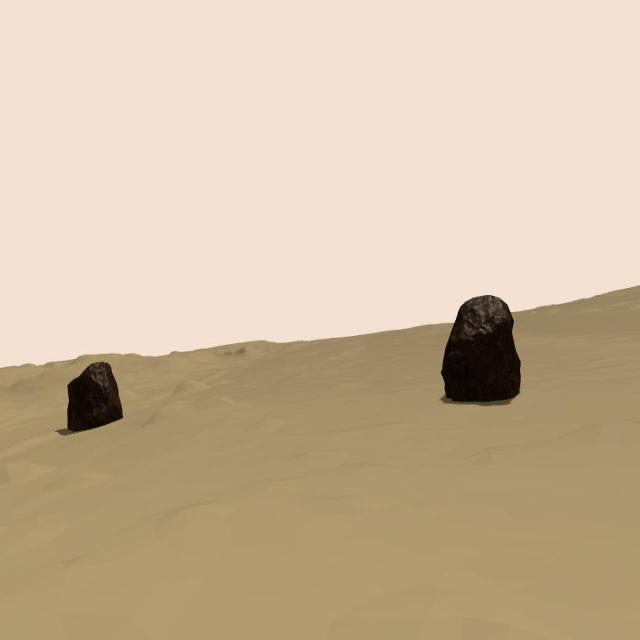rock: (441, 294, 521, 402), (67, 361, 123, 428)
